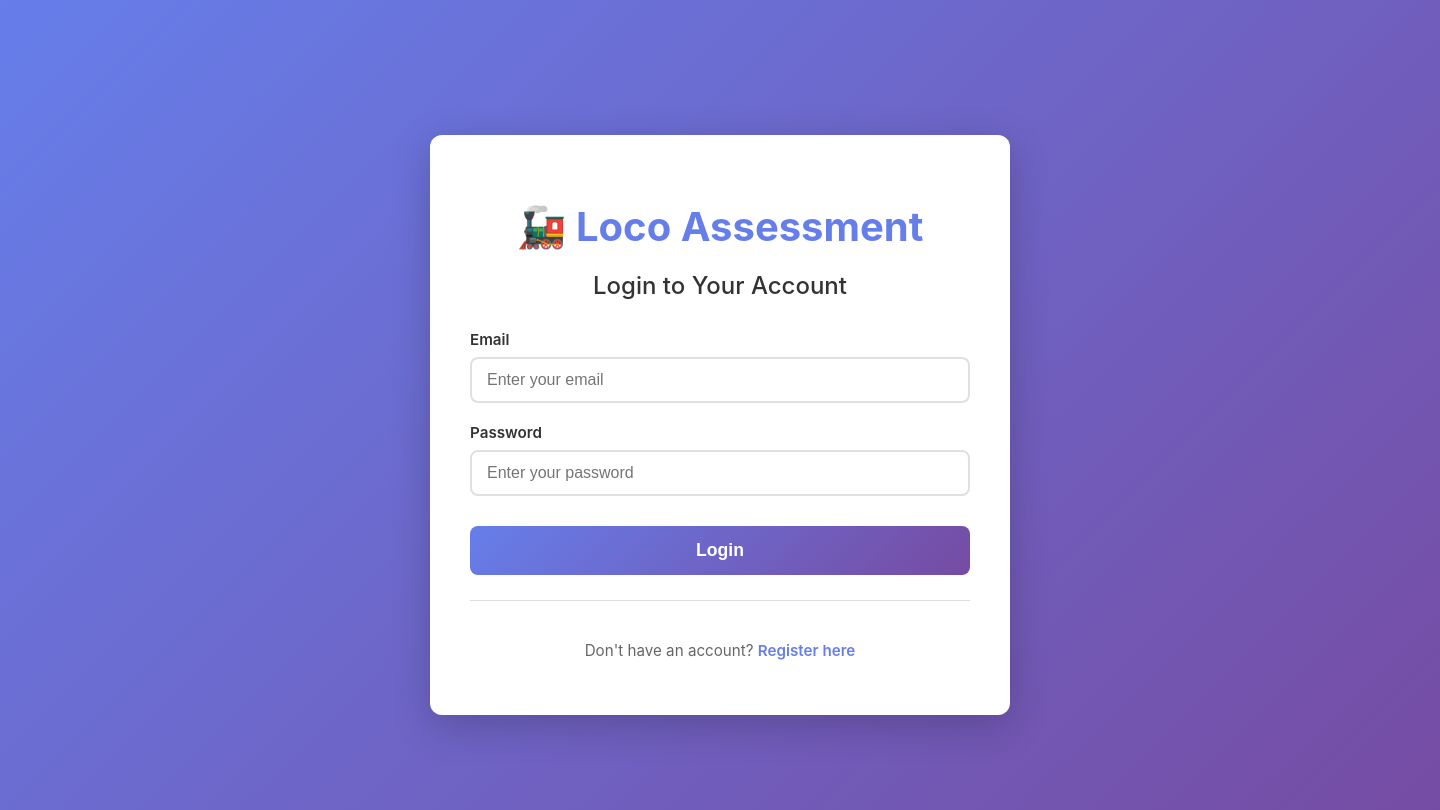
it: Login Component › displays error message on failed login
Type "test@example.com" into the field labelled "Email". click: (720, 380)
box: [470, 357, 970, 403]
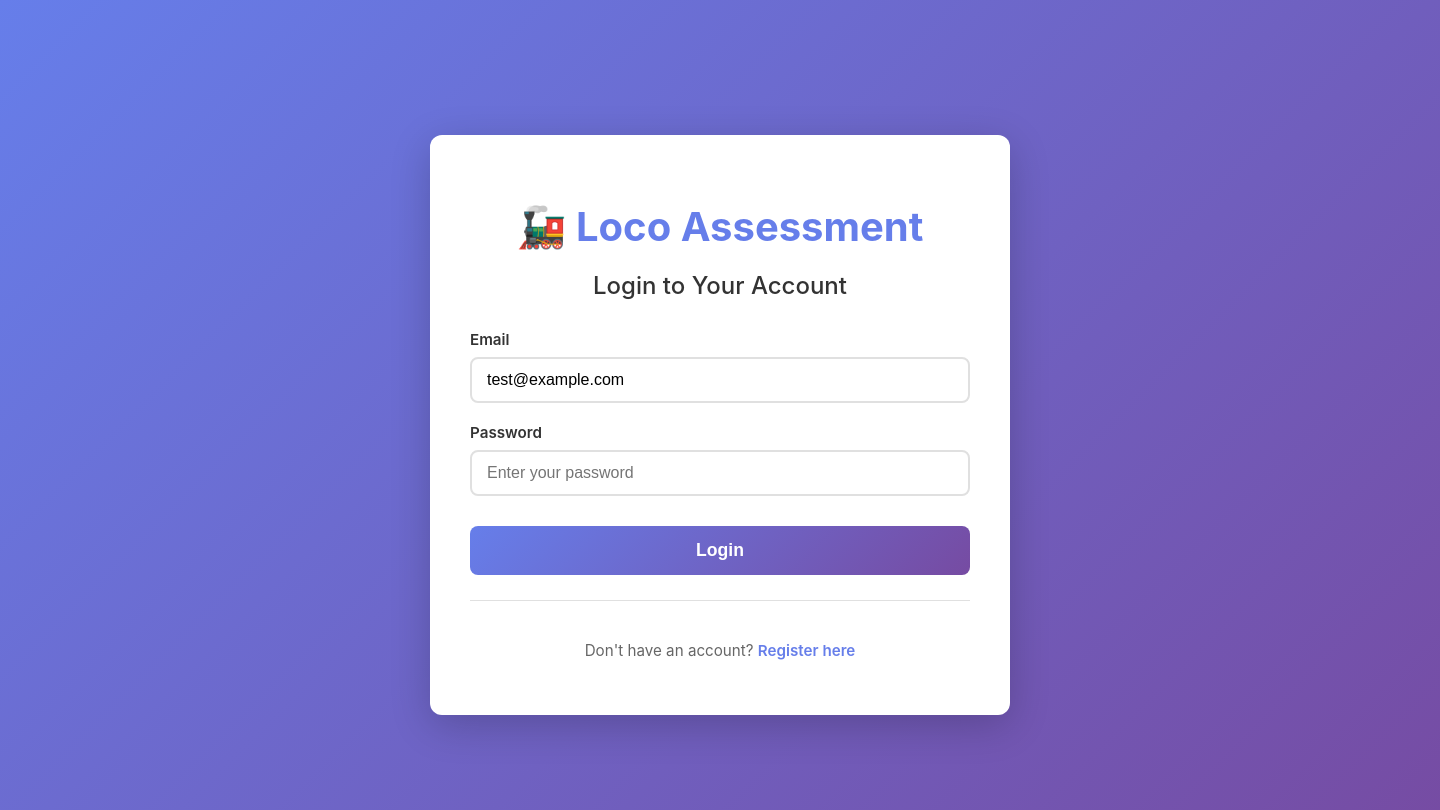
Type "wrongpassword" into the password field labelled "Password". click: (720, 473)
box: [470, 450, 970, 496]
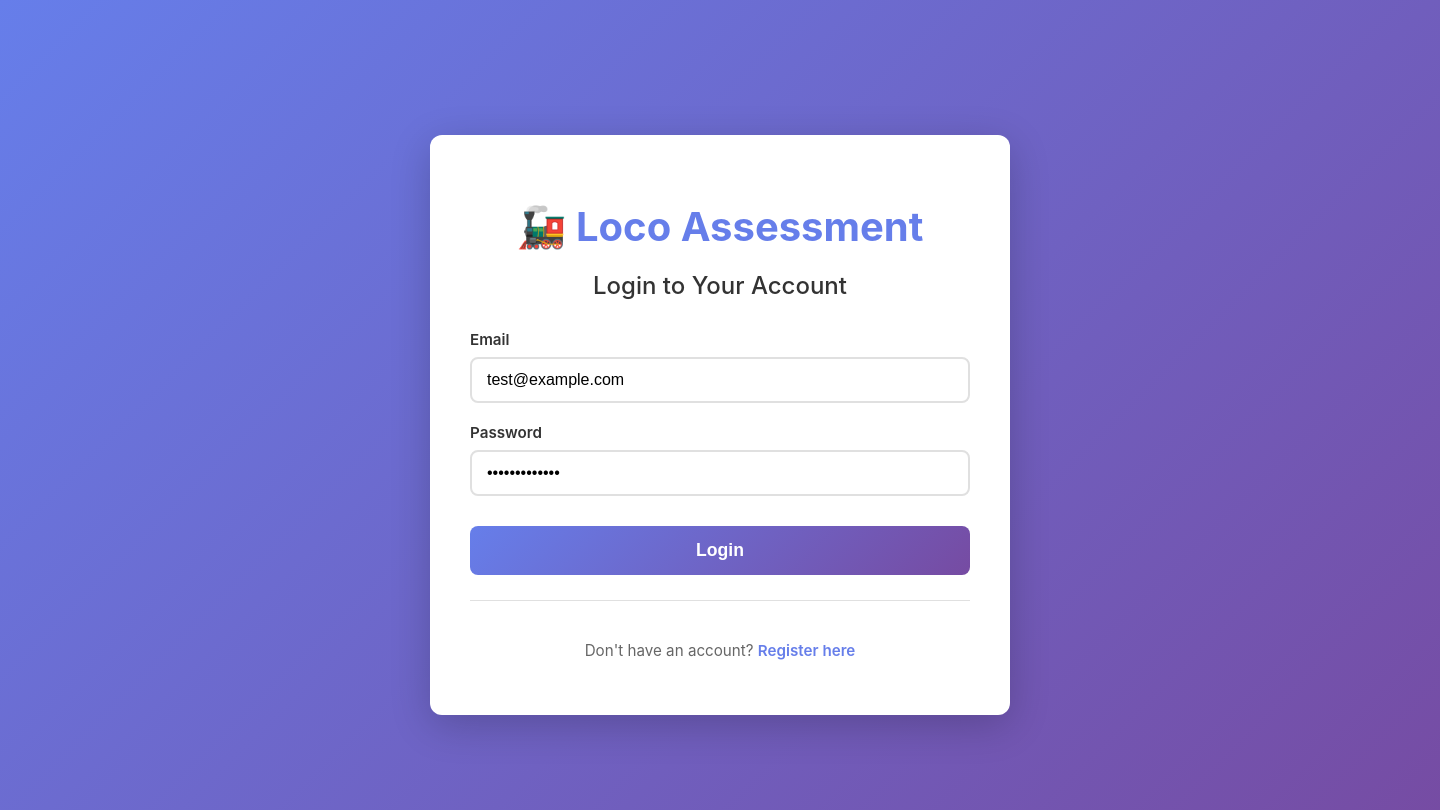
Click the button "Login". click: (720, 550)
box: [470, 526, 970, 575]
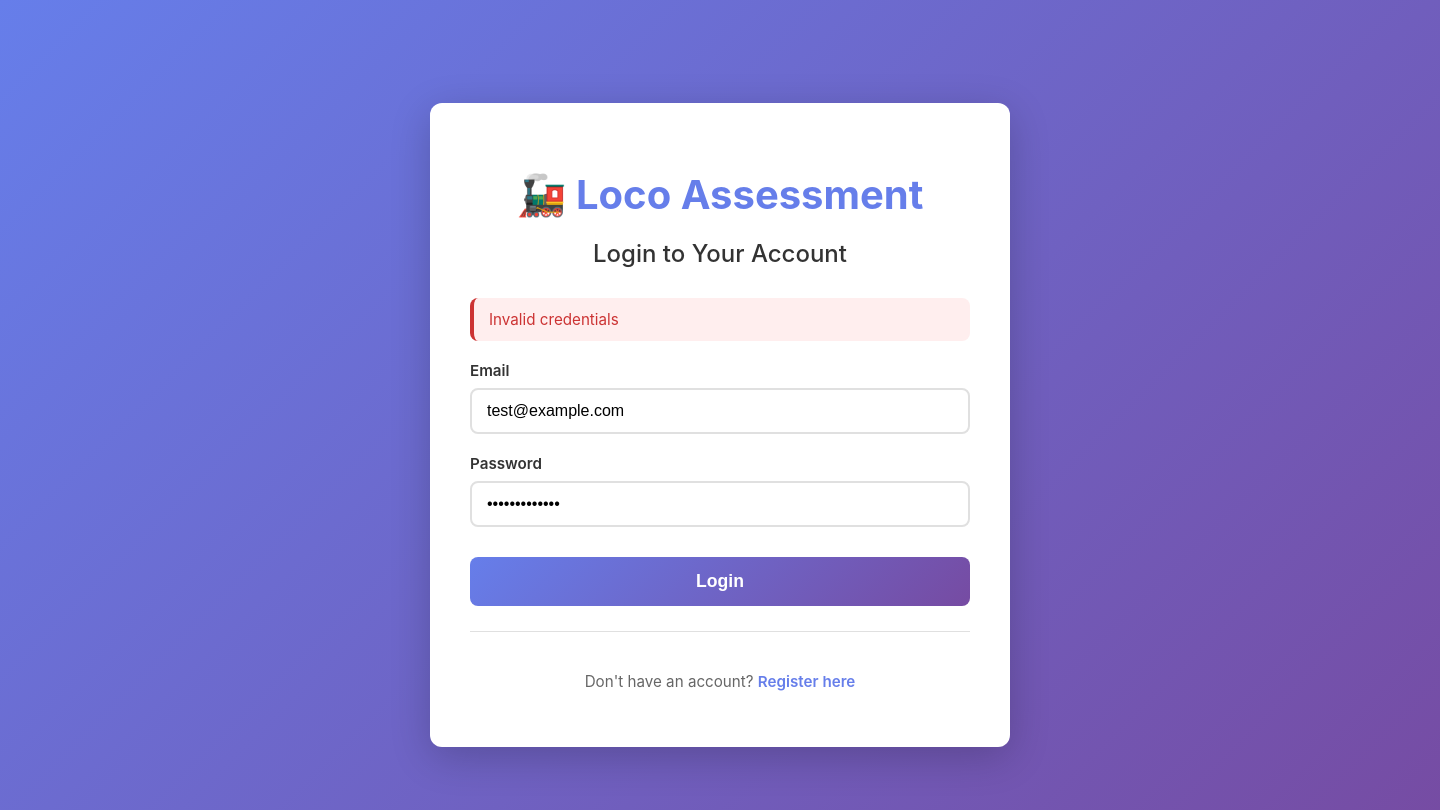
Check: the text "Invalid credentials" is shown, box [470, 298, 970, 341]
